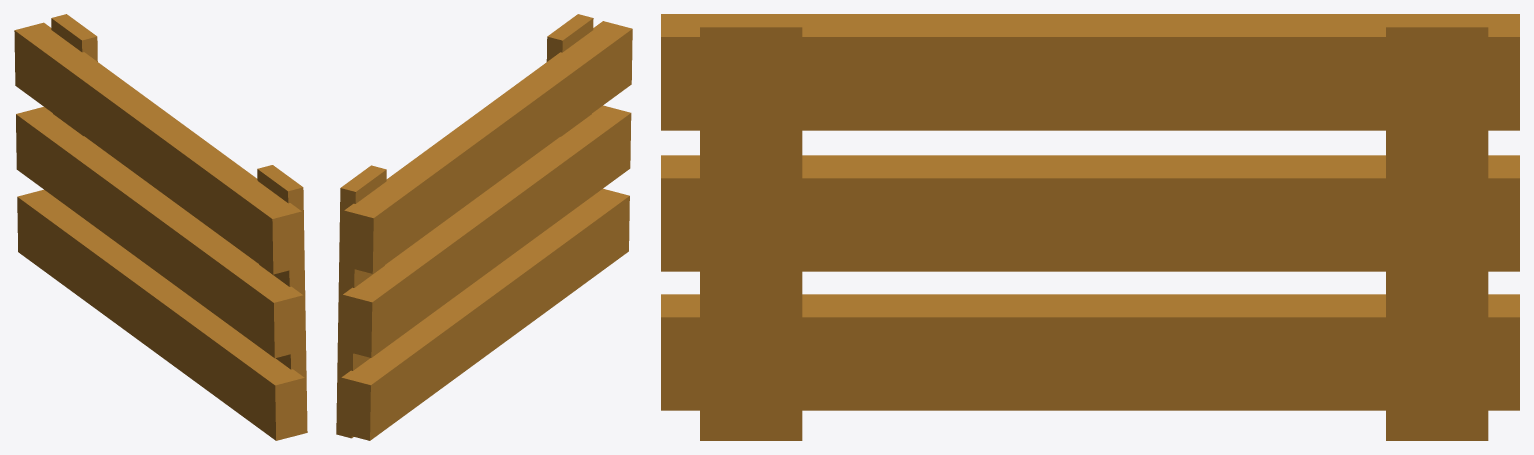
The picture shows the model from 3 angles, left to right: view 1: azimuth 30°, elevation 25°; view 2: azimuth 150°, elevation 25°; view 3: azimuth 270°, elevation 25°; orthographic projection. The views are drawn at different scales.
Parts seen in each view (by area): view 1: OJ2_2; view 2: OJ2_2; view 3: OJ2_2.
Part boxes in pixels (<box>): OJ2_2: <box>14,14,307,440</box>; OJ2_2: <box>336,14,632,440</box>; OJ2_2: <box>661,14,1519,440</box>.
Size of the model in its own units: 0.1872 by 0.9439 by 1.79.
1 material, 1 textured.
